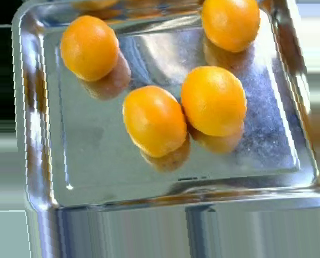Orange: (121, 84, 186, 156), (181, 66, 246, 137), (59, 14, 119, 81), (201, 1, 261, 52)
